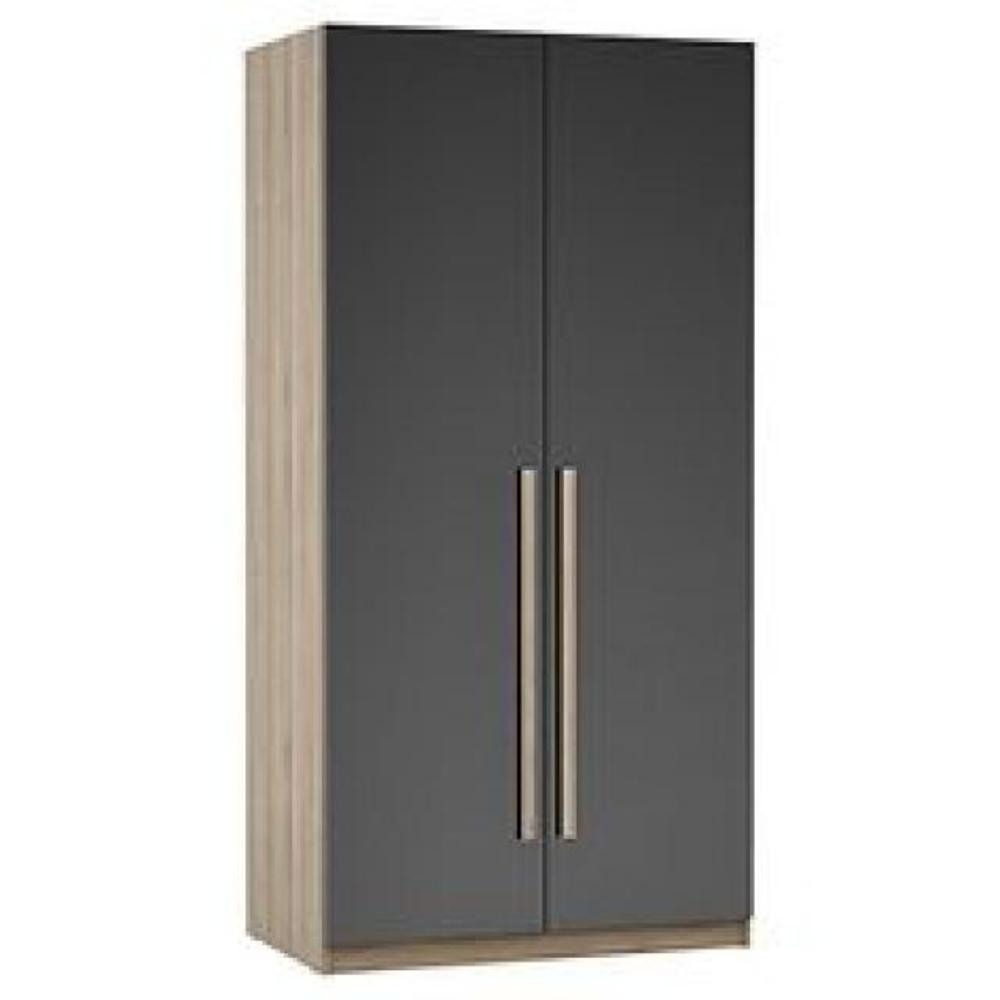cabinet: (246, 18, 759, 979)
